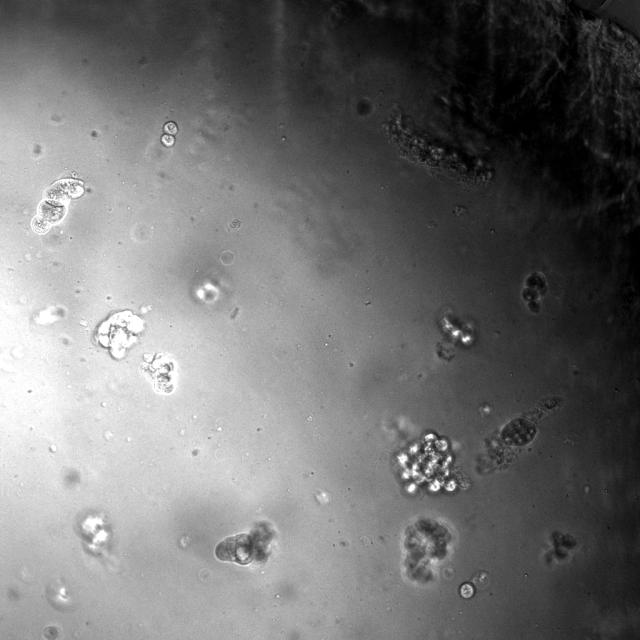organoid: (384, 108, 492, 186), (475, 396, 562, 475), (392, 431, 470, 498), (401, 517, 455, 586), (31, 171, 85, 234), (215, 520, 277, 565), (93, 309, 144, 359), (436, 307, 476, 361), (76, 510, 112, 556), (139, 352, 176, 394), (543, 530, 578, 565), (192, 272, 228, 303), (521, 271, 547, 313), (161, 121, 178, 148), (471, 570, 490, 590), (458, 581, 476, 599), (356, 98, 372, 116), (42, 625, 59, 639), (478, 402, 492, 417)
